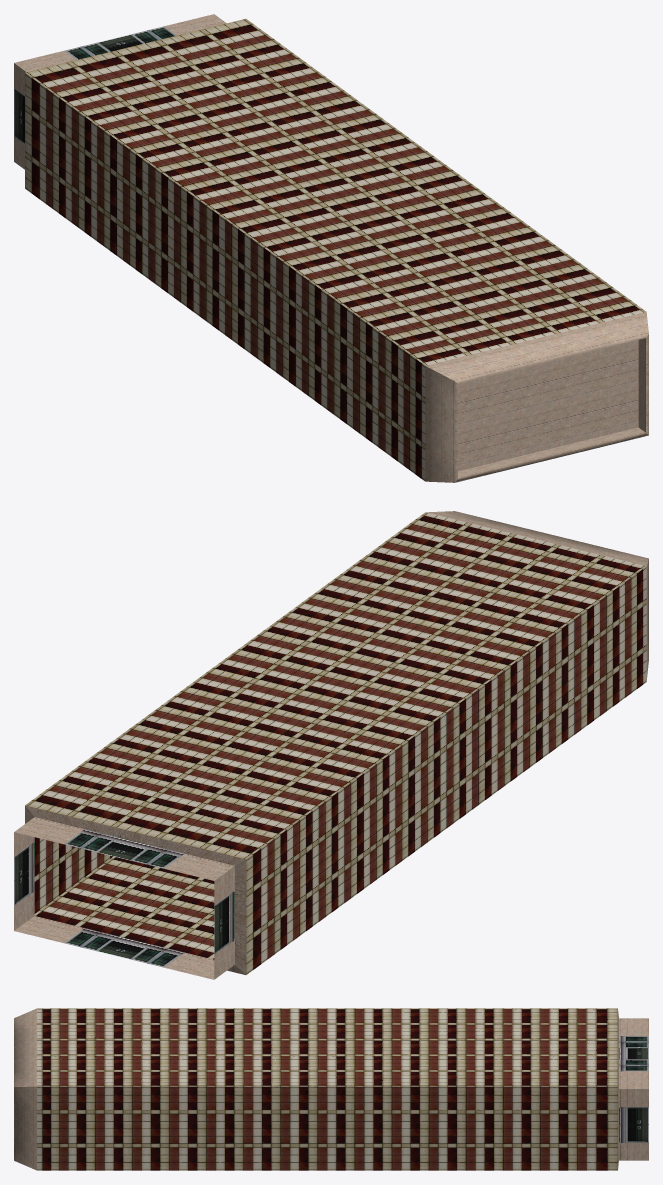
File: skyscraper_windowF_05.obj
3 views of the same model, one above another, from view 1: azimuth 30°, elevation 25°; view 2: azimuth 150°, elevation 25°; view 3: azimuth 270°, elevation 25° (orthographic). The views are drawn at different scales.
Parts seen in each view (by area): view 1: Object24; view 2: Object24; view 3: Object24.
Part boxes in pixels (bbox=[...]): Object24: bbox=[14, 14, 648, 482]; Object24: bbox=[14, 511, 648, 979]; Object24: bbox=[14, 1008, 648, 1170].
Size of the model in its own units: 40 by 20 by 137.
Materials: 3 (3 with a texture image).
